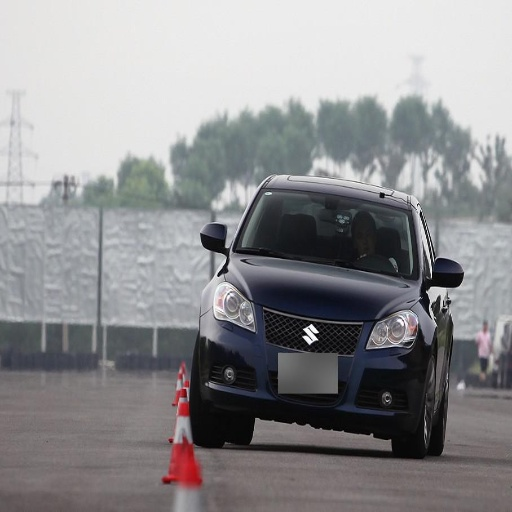front_bumper: (194, 303, 432, 427)
front_right_light: (213, 283, 256, 332)
hood: (229, 253, 416, 319)
